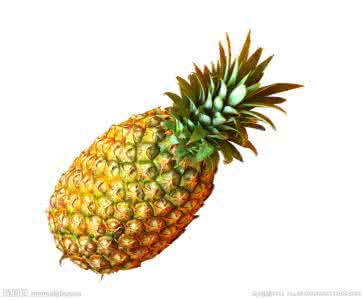pineapple: (45, 38, 287, 277)
